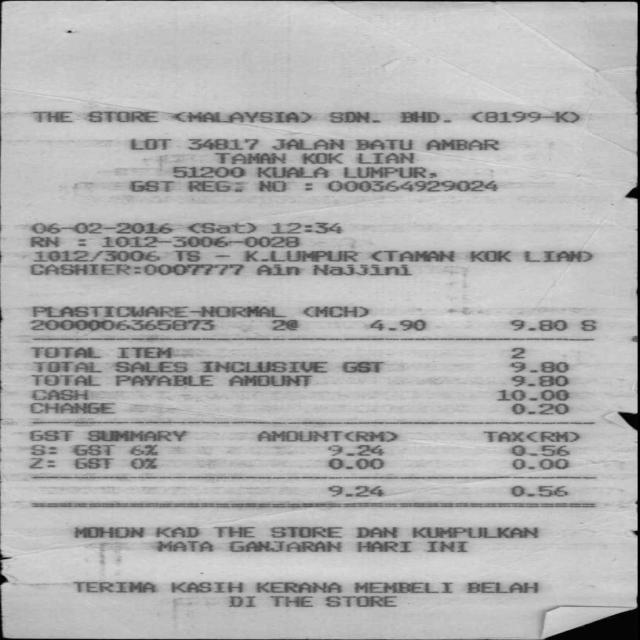text: (31, 306, 286, 317), (370, 250, 592, 262), (28, 263, 242, 275), (100, 236, 299, 248), (327, 180, 498, 192), (28, 320, 214, 330), (255, 430, 397, 442), (175, 111, 310, 123), (199, 360, 326, 372), (411, 526, 537, 538), (30, 223, 172, 233), (228, 540, 340, 552), (32, 251, 158, 261), (245, 250, 358, 261), (469, 111, 579, 122), (311, 264, 411, 276), (341, 166, 436, 178), (113, 375, 212, 386), (86, 430, 185, 441), (481, 431, 579, 442), (29, 402, 114, 414), (352, 582, 453, 592), (255, 582, 342, 593), (227, 375, 310, 386), (270, 138, 344, 150), (508, 320, 596, 330), (426, 139, 499, 151), (86, 110, 158, 122), (185, 138, 257, 150), (270, 526, 342, 538), (323, 595, 395, 607), (72, 582, 155, 592), (171, 166, 245, 177), (113, 361, 187, 372), (497, 389, 570, 400), (212, 152, 284, 163), (465, 582, 537, 593), (29, 347, 100, 358), (72, 527, 143, 538), (29, 375, 99, 386), (272, 222, 341, 233), (187, 222, 255, 233), (302, 306, 369, 317), (169, 582, 242, 592), (256, 167, 328, 177), (32, 362, 103, 372), (509, 485, 567, 497), (355, 540, 412, 552), (156, 540, 212, 552), (509, 375, 569, 386), (509, 403, 569, 414), (508, 445, 568, 456), (510, 458, 568, 469), (356, 139, 412, 150), (327, 458, 383, 469), (508, 362, 569, 372), (117, 347, 172, 358), (327, 111, 380, 122), (398, 111, 451, 122), (357, 153, 415, 163), (30, 390, 88, 400), (327, 486, 384, 496), (327, 445, 383, 455), (370, 320, 425, 330), (130, 180, 174, 192), (128, 444, 176, 455), (186, 180, 229, 192), (129, 138, 171, 150), (300, 152, 342, 164), (28, 430, 73, 441), (70, 444, 114, 455), (212, 526, 256, 537), (72, 457, 112, 469), (356, 526, 396, 538), (255, 264, 298, 275), (269, 596, 312, 607), (340, 361, 382, 372), (425, 541, 466, 552), (32, 111, 72, 122), (155, 527, 199, 537), (28, 236, 59, 248), (258, 180, 286, 192), (227, 595, 255, 607), (173, 250, 199, 261), (271, 320, 298, 330), (129, 458, 156, 468), (29, 444, 45, 455), (510, 347, 525, 358), (28, 458, 42, 468)
